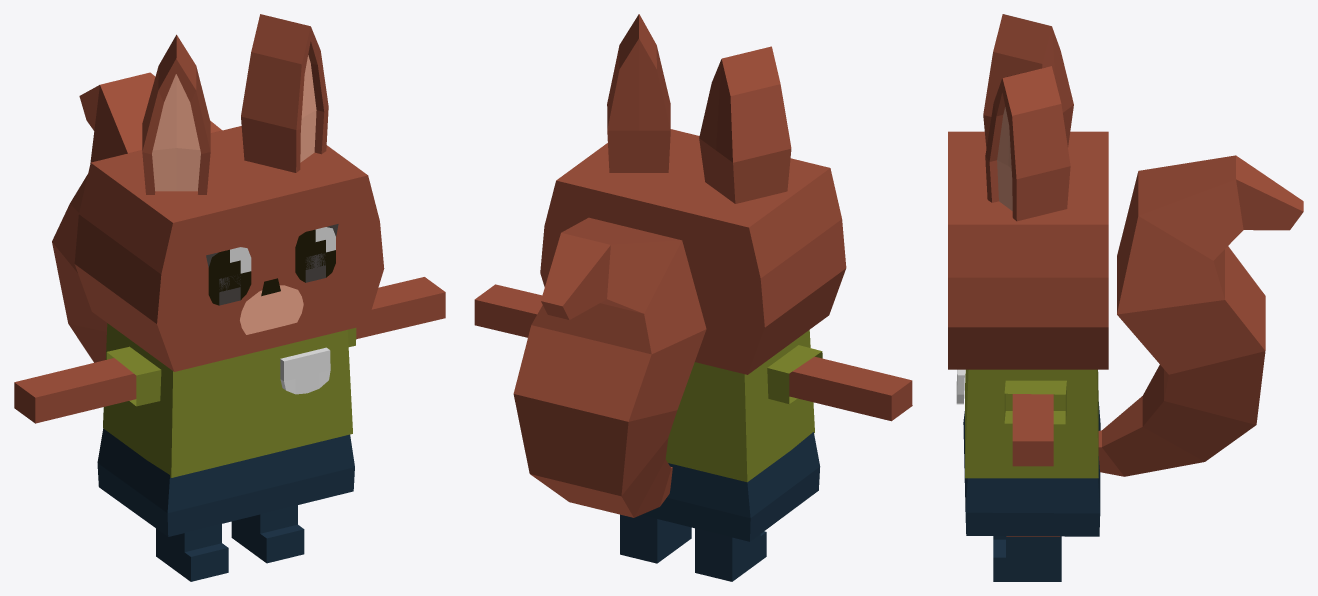
Rendered from npc_basic form_dotori npc3.fbx.
3 views of the same model, side by side, from view 1: azimuth 30°, elevation 25°; view 2: azimuth 150°, elevation 25°; view 3: azimuth 270°, elevation 25° (orthographic). The views are drawn at different scales.
Parts seen in each view (by area): view 1: head, clothes, dungarees(Skirt), tail, arm.R, eyes, arm.L, Leg.R.001, Leg.L, mouth, clothes.R; view 2: head, tail, clothes, dungarees(Skirt), arm.R, Leg.R.001, arm.L, Leg.L, clothes.R; view 3: head, tail, clothes, dungarees(Skirt), Leg.L, arm.L, clothes.L.
Part boxes in pixels (left/top/right/bottom): head: left=74, top=14, right=384, bottom=371; clothes: left=103, top=323, right=352, bottom=477; dungarees(Skirt): left=97, top=428, right=354, bottom=536; tail: left=52, top=72, right=222, bottom=362; arm.R: left=14, top=358, right=136, bottom=423; eyes: left=206, top=224, right=338, bottom=305; arm.L: left=356, top=277, right=445, bottom=338; Leg.R.001: left=156, top=524, right=228, bottom=581; Leg.L: left=231, top=505, right=304, bottom=563; mouth: left=240, top=278, right=303, bottom=334; clothes.R: left=106, top=346, right=161, bottom=406; head: left=540, top=14, right=846, bottom=374; tail: left=513, top=217, right=706, bottom=517; clothes: left=665, top=330, right=814, bottom=482; dungarees(Skirt): left=641, top=432, right=820, bottom=541; arm.R: left=789, top=356, right=912, bottom=421; Leg.R.001: left=695, top=528, right=766, bottom=581; arm.L: left=474, top=284, right=542, bottom=337; Leg.L: left=620, top=514, right=691, bottom=563; clothes.R: left=767, top=345, right=822, bottom=403; head: left=948, top=14, right=1108, bottom=369; tail: left=1098, top=155, right=1303, bottom=476; clothes: left=956, top=369, right=1098, bottom=478; dungarees(Skirt): left=963, top=402, right=1100, bottom=536; Leg.L: left=993, top=536, right=1061, bottom=581; arm.L: left=1012, top=394, right=1053, bottom=466; clothes.L: left=1004, top=380, right=1066, bottom=424.
Size of the model in its own units: 583 by 699 by 451.
